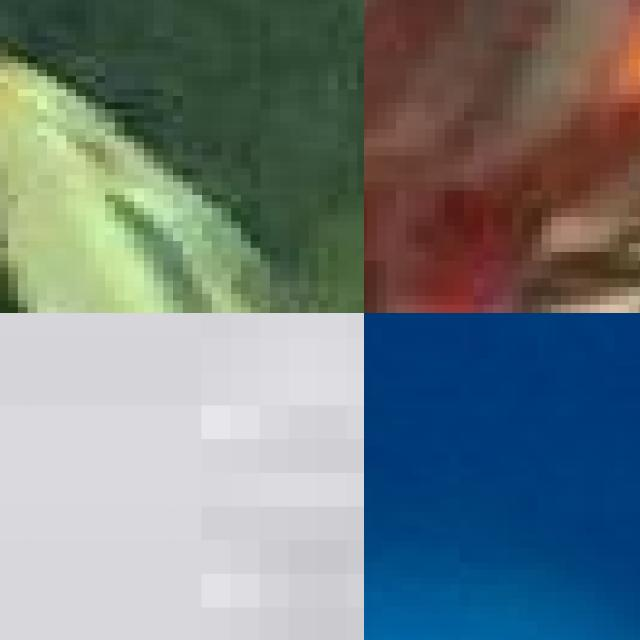fish: (0, 313, 364, 640), (0, 0, 364, 313), (364, 0, 640, 313)
